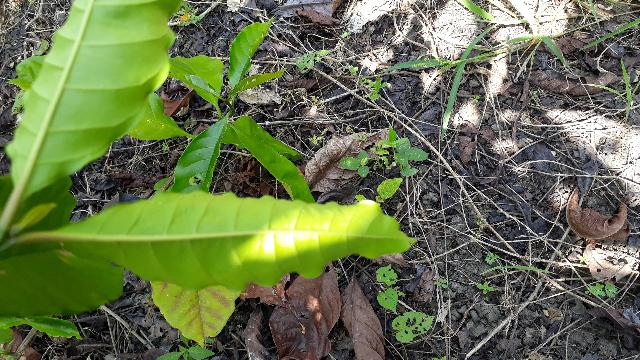healthy: (49, 192, 417, 293)
